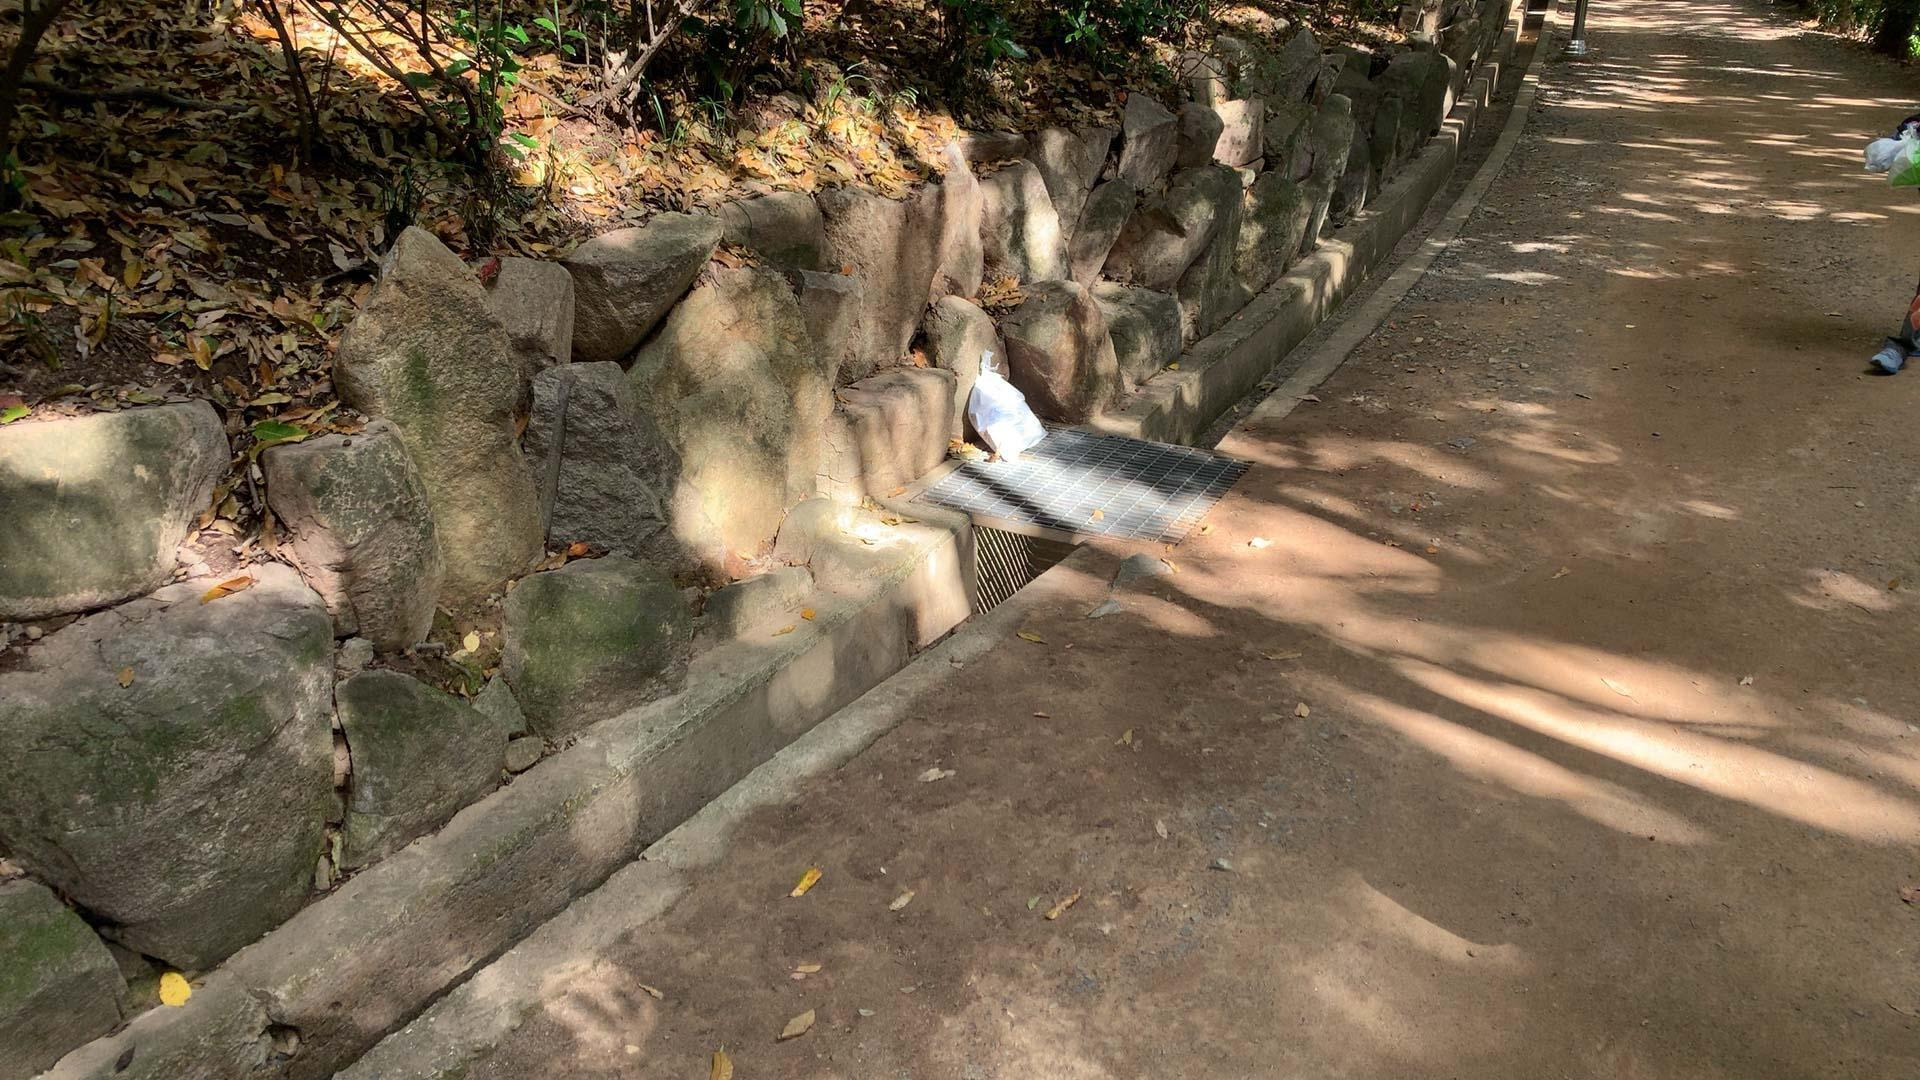white_bag: (960, 340, 1063, 473)
